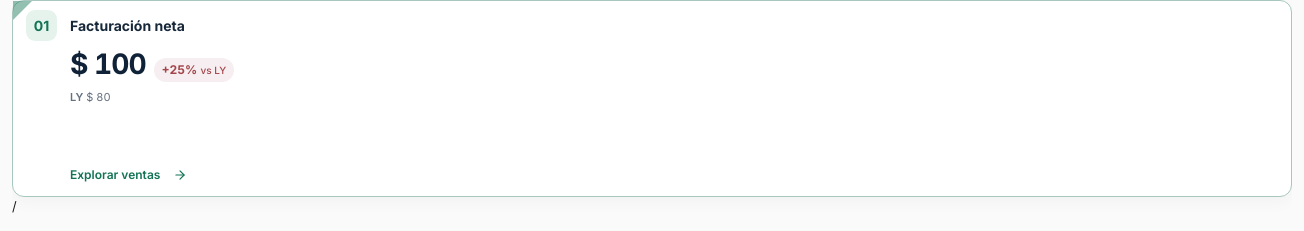
Panorama card navigation › goes straight to the filtered source for a single-area story
Click the link with aria-label "Explorar ventas: Facturación neta": point(128, 174) x1=70 y1=167 x2=187 y2=182
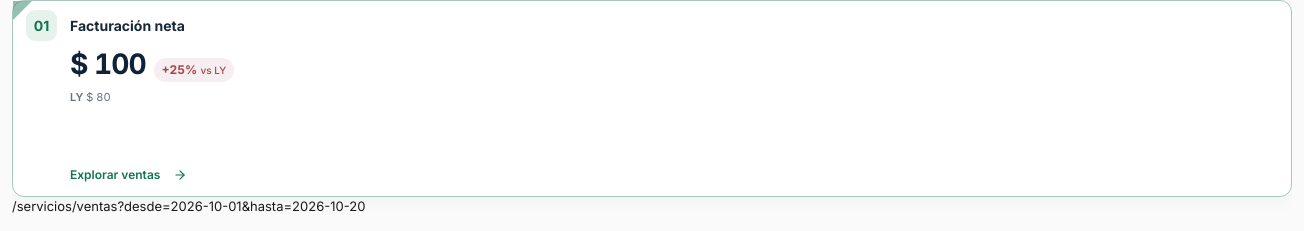
Now the text with test id "route" reads "/servicios/ventas?desde=2026-10-01&hasta=2026-10-20", box x1=12 y1=198 x2=365 y2=214
